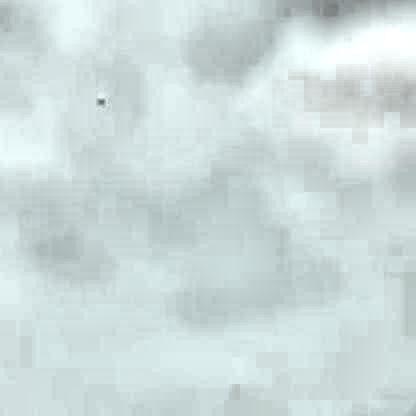golfball: (95, 91, 102, 102)
